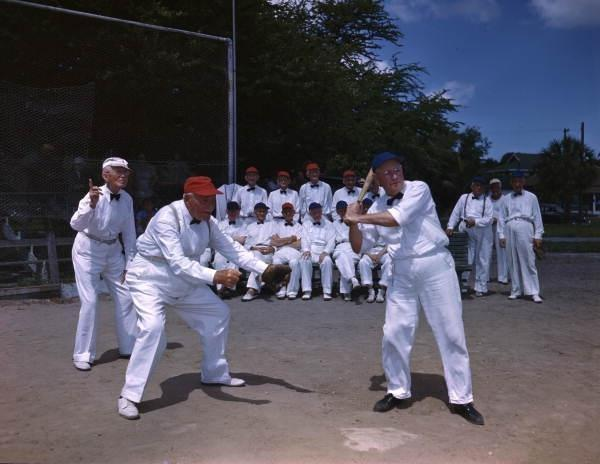car: (539, 204, 590, 226)
